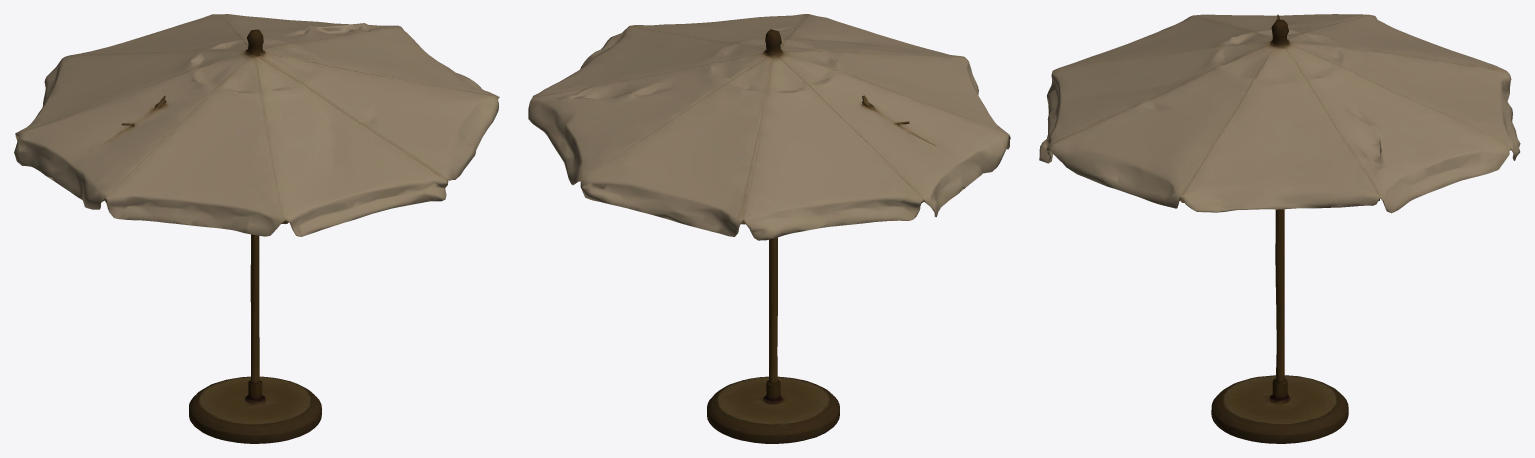
File: cafe_parasol.glb
3 renders of one model, left to right at view 1: azimuth 30°, elevation 25°; view 2: azimuth 150°, elevation 25°; view 3: azimuth 270°, elevation 25°, orthographic. The views are drawn at different scales.
Parts seen in each view (by area): view 1: tripo_node_5ea41ef4-75e4-4c4b-8d08-993558eb1223; view 2: tripo_node_5ea41ef4-75e4-4c4b-8d08-993558eb1223; view 3: tripo_node_5ea41ef4-75e4-4c4b-8d08-993558eb1223.
Part boxes in pixels (box(x1,y1,x2,y2)): tripo_node_5ea41ef4-75e4-4c4b-8d08-993558eb1223: box(14, 14, 499, 443); tripo_node_5ea41ef4-75e4-4c4b-8d08-993558eb1223: box(528, 14, 1010, 443); tripo_node_5ea41ef4-75e4-4c4b-8d08-993558eb1223: box(1039, 14, 1520, 443).
Bounding box in the file's own units: 0.9961 × 0.9049 × 1.
Materials: 1 (1 with a texture image).
